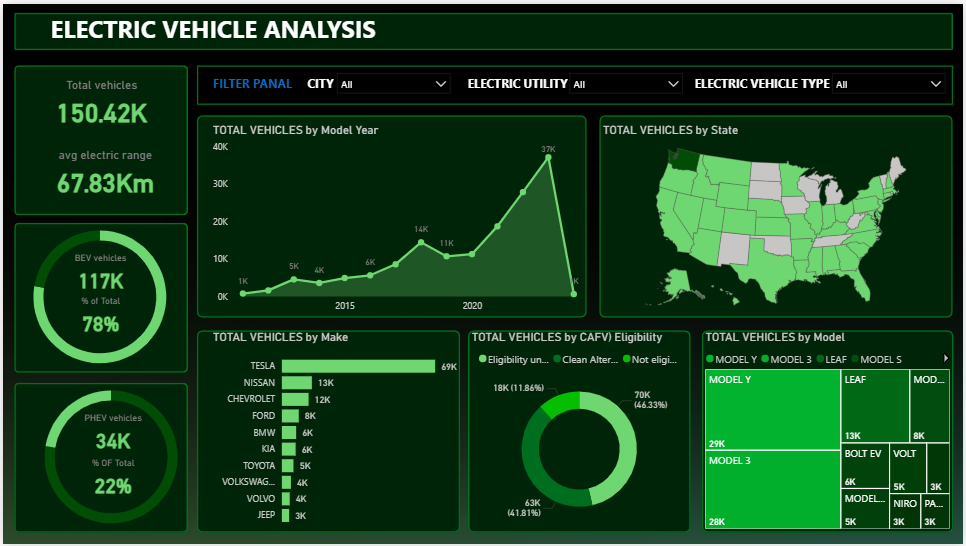

This screenshot's page, from the dashboard's own definition file:
{"tool":"powerbi","page":{"name":"Page 1","canvas":[1280,720],"ordinal":0},"visuals":[{"type":"shape","box":[15,11.7,1251.7,50],"z":0},{"type":"textbox","box":[58.3,6.7,458.3,58.3],"z":1000},{"type":"shape","box":[15,81.7,231.7,200],"z":2000},{"type":"card","title":"Total vehicles","fields":{"Values":["Electric_Vehicle_Population_Data.TOTAL VEHICLES"]},"box":[35,98.3,193.3,71.7],"z":3000},{"type":"card","title":"avg electric range","fields":{"Values":["Electric_Vehicle_Population_Data.avg range"]},"box":[50,191.7,173.3,71.7],"z":4000},{"type":"shape","box":[15,505,231.7,200],"z":5000},{"type":"shape","box":[15,291.7,231.7,200],"z":6000},{"type":"donutChart","fields":{"Y":["Electric_Vehicle_Population_Data.TOTAL VEHICLES"],"Category":["Electric_Vehicle_Population_Data.Electric Vehicle Type"]},"box":[0,275.7,258.6,231.4],"z":7000},{"type":"card","title":"BEV vehicles","fields":{"Values":["Electric_Vehicle_Population_Data.BEV Vehicles"]},"box":[67.1,331.4,127.1,60],"z":8000},{"type":"card","title":"% of Total","fields":{"Values":["Electric_Vehicle_Population_Data.% of BEV"]},"box":[67.1,388.6,127.1,60],"z":9000},{"type":"donutChart","fields":{"Y":["Electric_Vehicle_Population_Data.TOTAL VEHICLES"],"Category":["Electric_Vehicle_Population_Data.Electric Vehicle Type"]},"box":[15.7,488.6,258.6,231.4],"z":10000},{"type":"card","title":"PHEV vehicles","fields":{"Values":["Electric_Vehicle_Population_Data.PHEV Vehicles"]},"box":[82.9,545.7,127.1,60],"z":11000},{"type":"card","title":"% OF Total","fields":{"Values":["Electric_Vehicle_Population_Data.% of PHEV"]},"box":[82.9,605.7,127.1,60],"z":12000},{"type":"shape","box":[258.6,81.4,1008.6,52.9],"z":13000},{"type":"shape","box":[258.6,148.6,520,270],"z":14000},{"type":"areaChart","fields":{"Category":["Electric_Vehicle_Population_Data.Model Year"],"Y":["Electric_Vehicle_Population_Data.TOTAL VEHICLES"]},"box":[274.3,158.6,504.3,262.9],"z":15000},{"type":"shape","box":[795.7,148.6,471.4,270],"z":16000},{"type":"shapeMap","fields":{"Category":["Electric_Vehicle_Population_Data.State"],"Value":["Electric_Vehicle_Population_Data.TOTAL VEHICLES"]},"box":[795.7,158.6,471.4,260],"z":17000},{"type":"shape","box":[258.6,435.7,351.4,270],"z":18000},{"type":"barChart","fields":{"Category":["Electric_Vehicle_Population_Data.Make"],"Y":["Electric_Vehicle_Population_Data.TOTAL VEHICLES"]},"box":[274.3,435.7,335.7,270],"z":19000},{"type":"shape","box":[620,435.7,297.1,270],"z":20000},{"type":"donutChart","title":"TOTAL VEHICLES by CAFV) Eligibility","fields":{"Category":["Electric_Vehicle_Population_Data.Clean Alternative Fuel Vehicle (CAFV) Eligibility"],"Y":["Electric_Vehicle_Population_Data.TOTAL VEHICLES"]},"box":[620,435.7,297.1,270],"z":21000},{"type":"shape","box":[931.4,435.7,335.7,270],"z":22000},{"type":"treemap","fields":{"Group":["Electric_Vehicle_Population_Data.Model"],"Values":["Electric_Vehicle_Population_Data.TOTAL VEHICLES"]},"box":[931.4,435.7,335.7,270],"z":23000},{"type":"textbox","box":[274.3,90,135.7,31.4],"z":23001},{"type":"slicer","fields":{"Values":["Electric_Vehicle_Population_Data.City"]},"box":[434.3,81.4,171.4,48.6],"z":23002},{"type":"textbox","box":[392.9,90,60,31.4],"z":23003},{"type":"slicer","fields":{"Values":["Electric_Vehicle_Population_Data.Electric Utility"]},"box":[745.7,81.4,171.4,48.6],"z":23004},{"type":"textbox","box":[592.9,90,185.7,31.4],"z":23005},{"type":"textbox","box":[904.3,90,214.3,31.4],"z":23006},{"type":"slicer","fields":{"Values":["Electric_Vehicle_Population_Data.Electric Utility"]},"box":[1095.7,81.4,171.4,48.6],"z":23007}]}

Visuals, with their boxes in screenshot pixels (x1, y1, x2, y2), scaled from the page's 1280x720 canvas onto the 966x546 screenshot:
shape: (11,9,956,47)
textbox: (44,5,390,49)
shape: (11,62,186,214)
"Total vehicles" card: (26,75,172,129)
"avg electric range" card: (38,145,169,200)
shape: (11,383,186,535)
shape: (11,221,186,373)
donutChart - Electric_Vehicle_Population_Data.TOTAL VEHICLES x Electric_Vehicle_Population_Data.Electric Vehicle Type: (0,209,195,385)
"BEV vehicles" card: (51,251,147,297)
"% of Total" card: (51,295,147,340)
donutChart - Electric_Vehicle_Population_Data.TOTAL VEHICLES x Electric_Vehicle_Population_Data.Electric Vehicle Type: (12,371,207,545)
"PHEV vehicles" card: (63,414,158,459)
"% OF Total" card: (63,459,158,505)
shape: (195,62,956,102)
shape: (195,113,588,317)
areaChart - Electric_Vehicle_Population_Data.Model Year x Electric_Vehicle_Population_Data.TOTAL VEHICLES: (207,120,588,320)
shape: (601,113,956,317)
shapeMap - Electric_Vehicle_Population_Data.State x Electric_Vehicle_Population_Data.TOTAL VEHICLES: (601,120,956,317)
shape: (195,330,460,535)
barChart - Electric_Vehicle_Population_Data.Make x Electric_Vehicle_Population_Data.TOTAL VEHICLES: (207,330,460,535)
shape: (468,330,692,535)
"TOTAL VEHICLES by CAFV) Eligibility" donutChart: (468,330,692,535)
shape: (703,330,956,535)
treemap - Electric_Vehicle_Population_Data.Model x Electric_Vehicle_Population_Data.TOTAL VEHICLES: (703,330,956,535)
textbox: (207,68,309,92)
slicer - Electric_Vehicle_Population_Data.City: (328,62,457,99)
textbox: (297,68,342,92)
slicer - Electric_Vehicle_Population_Data.Electric Utility: (563,62,692,99)
textbox: (447,68,588,92)
textbox: (682,68,844,92)
slicer - Electric_Vehicle_Population_Data.Electric Utility: (827,62,956,99)
